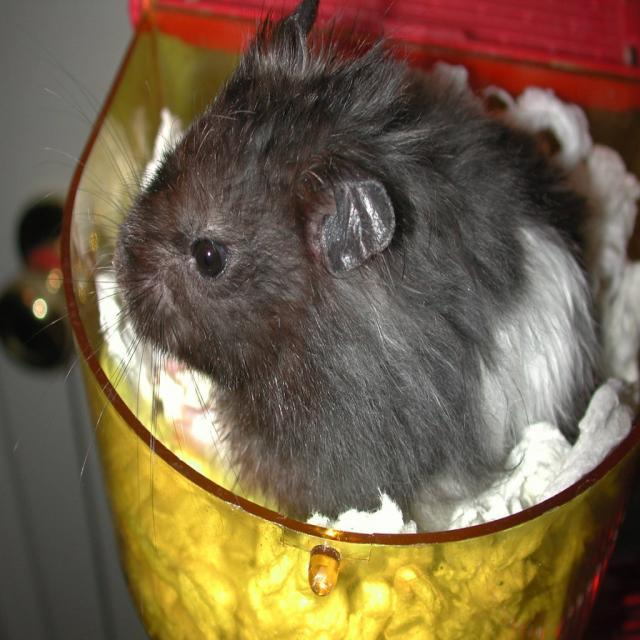rat: (108, 0, 604, 530)
